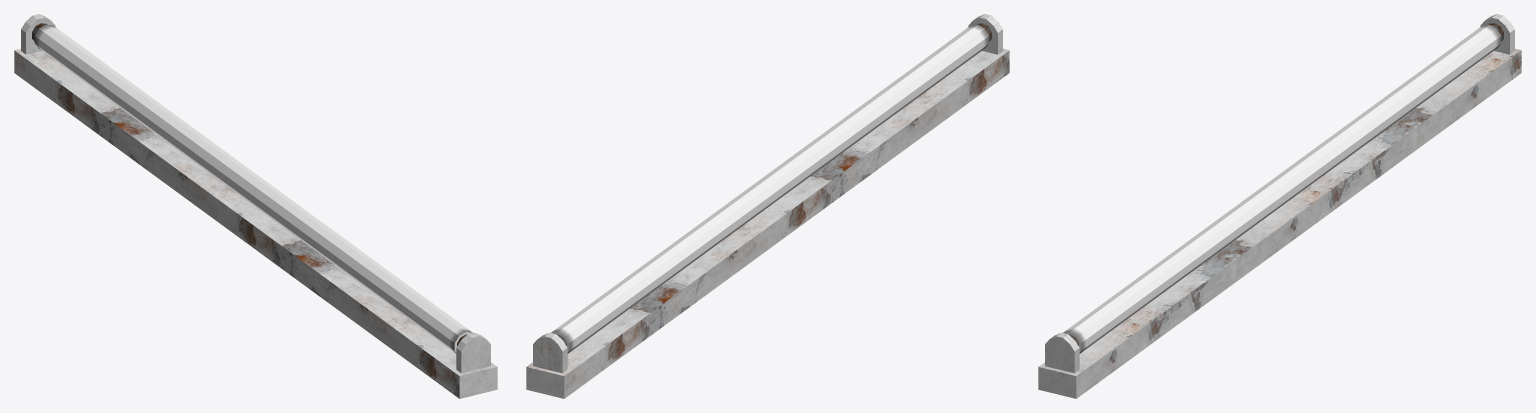
File: Foco_de_Ethan.fbx
3 renders of one model, left to right at view 1: azimuth 30°, elevation 25°; view 2: azimuth 150°, elevation 25°; view 3: azimuth 330°, elevation 25°, orthographic.
Parts seen in each view (by area): view 1: Cube.001, Cylinder, Cylinder.001; view 2: Cube.001, Cylinder, Cylinder.001; view 3: Cube.001, Cylinder, Cylinder.001.
Part boxes in pixels (x1,y1,x2,y2): Cube.001: (14,14,497,398); Cylinder: (49,35,458,344); Cylinder.001: (32,23,472,353); Cube.001: (526,14,1009,398); Cylinder: (565,35,974,344); Cylinder.001: (551,23,991,353); Cube.001: (1038,14,1521,398); Cylinder: (1077,35,1486,344); Cylinder.001: (1063,23,1503,353).
Bounding box in the file's own units: 57.14 × 79.42 × 1158.
Materials: 4 (4 with a texture image).
